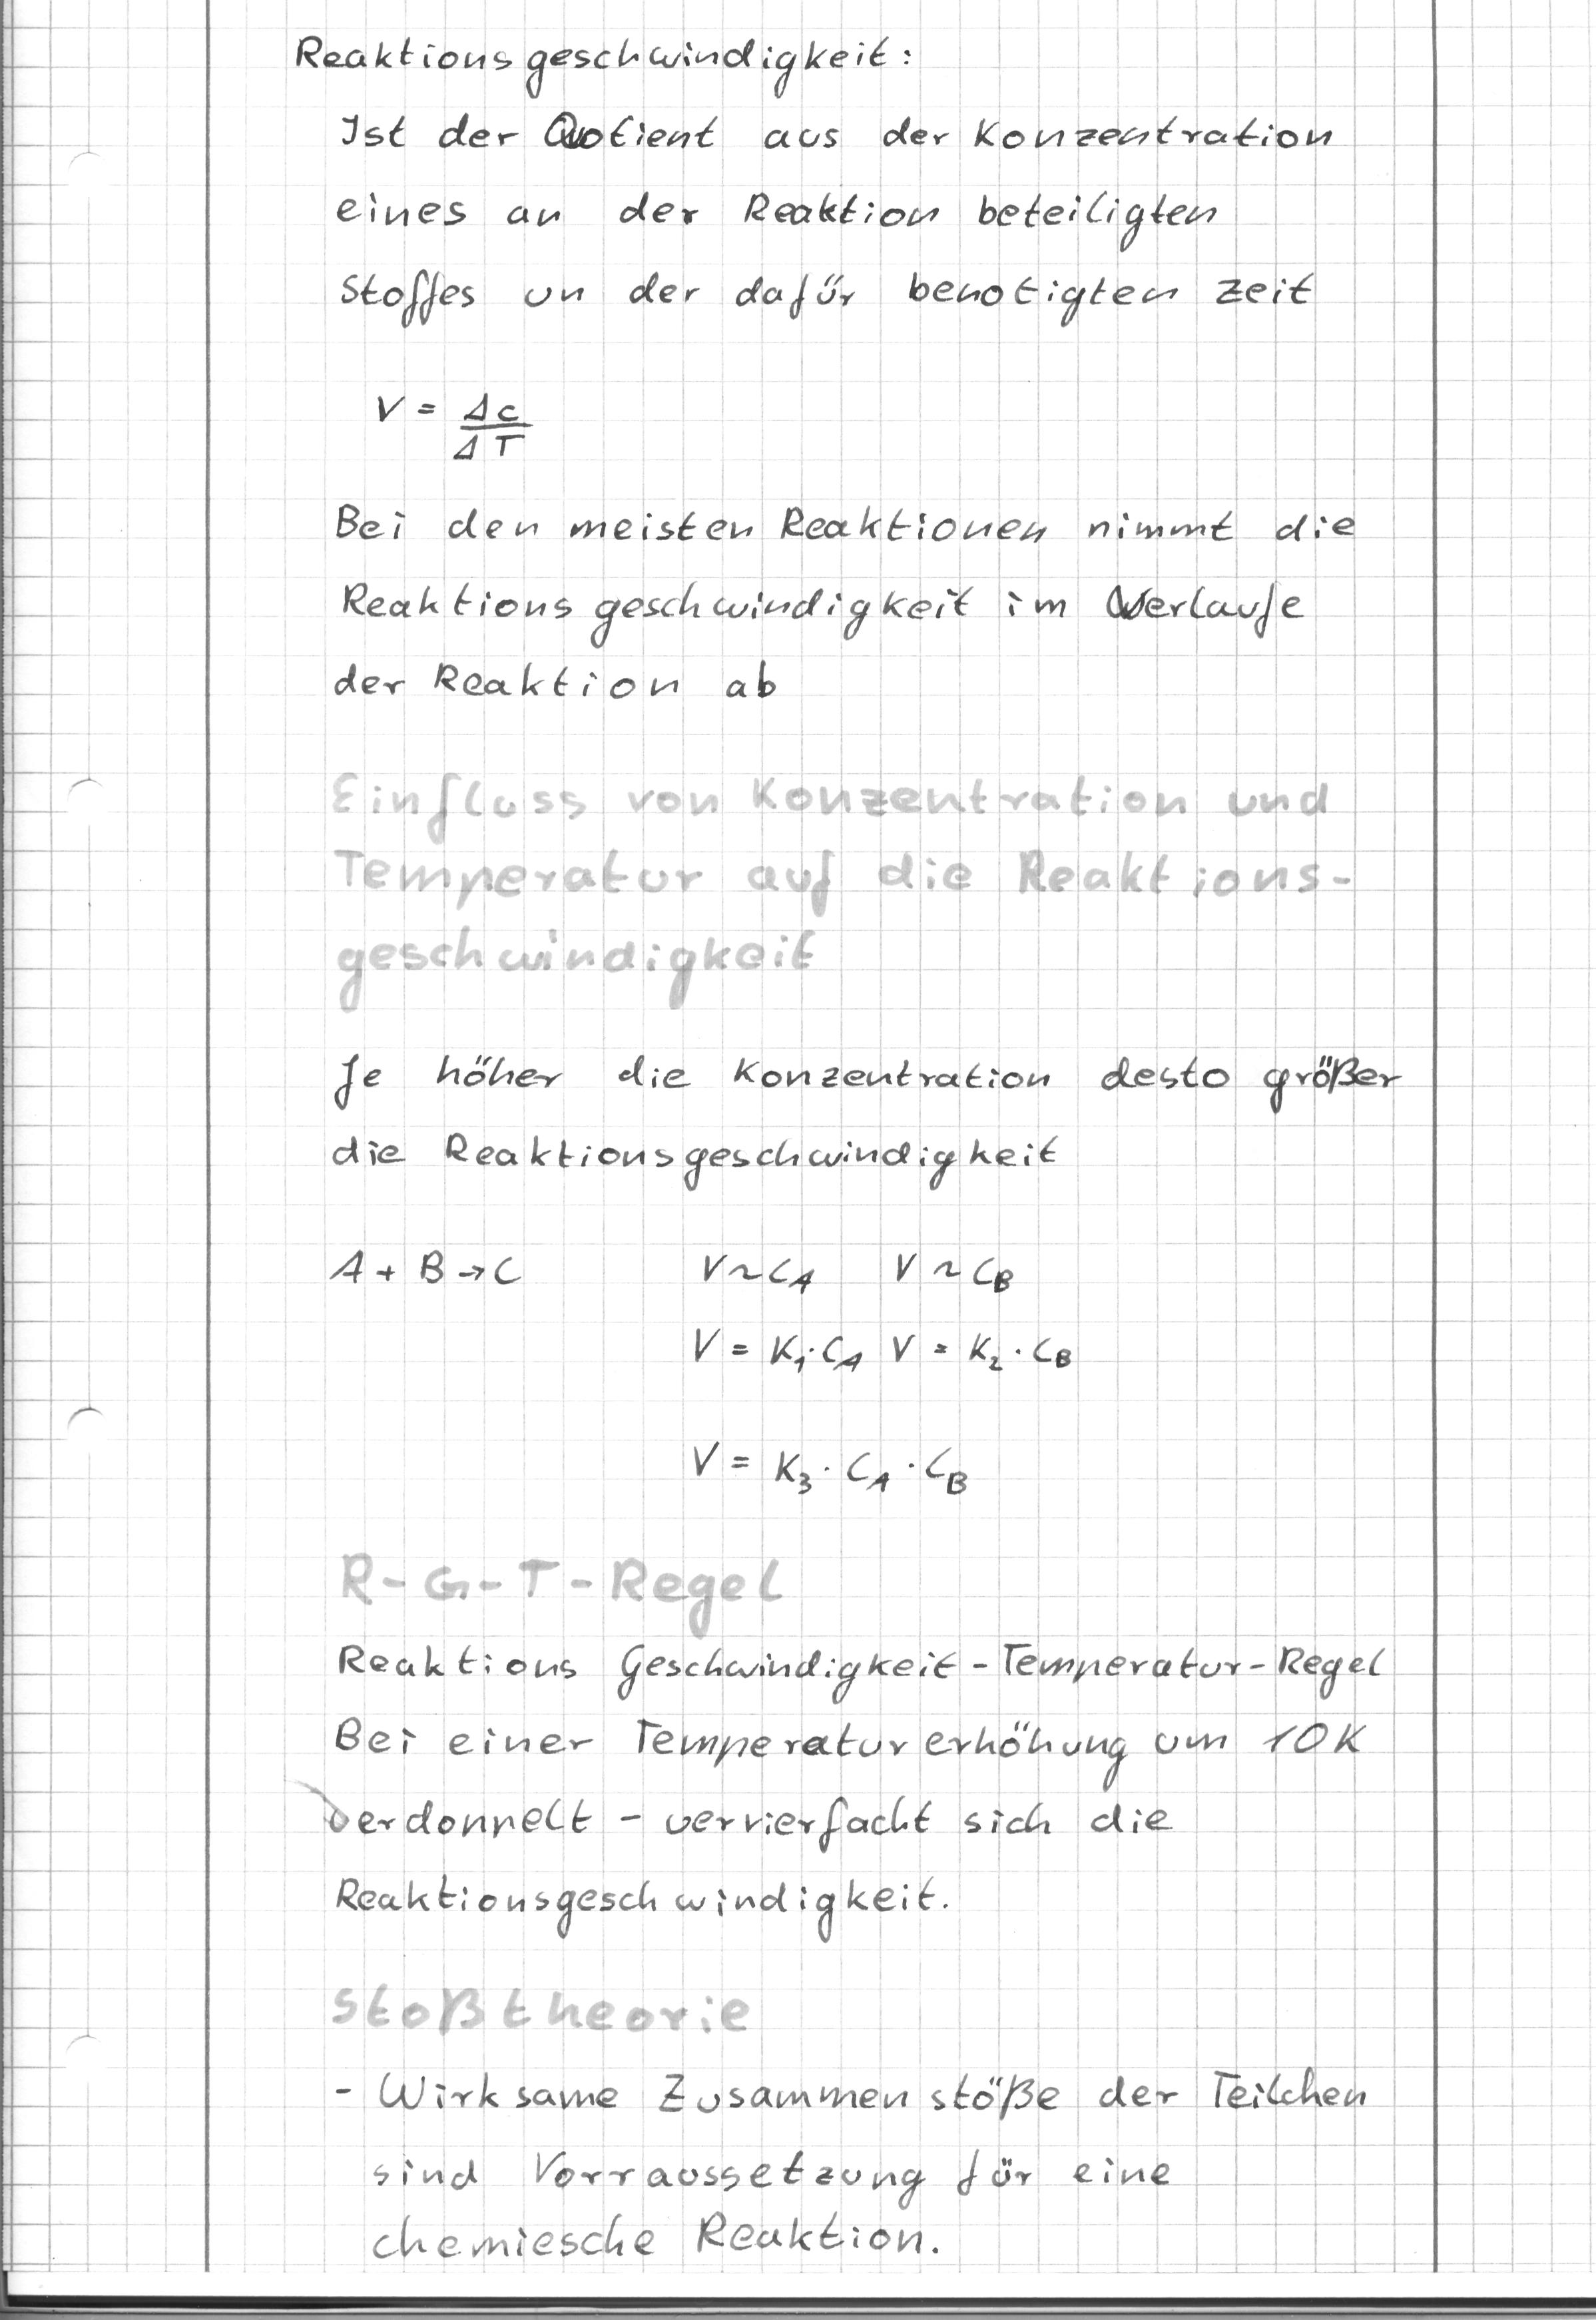word: (310, 1625, 1394, 1956), (287, 23, 1348, 347), (326, 493, 1362, 719), (322, 2054, 1380, 2271), (313, 1041, 1400, 1203), (678, 1237, 1091, 1524), (356, 362, 551, 483), (310, 1224, 543, 1316)
